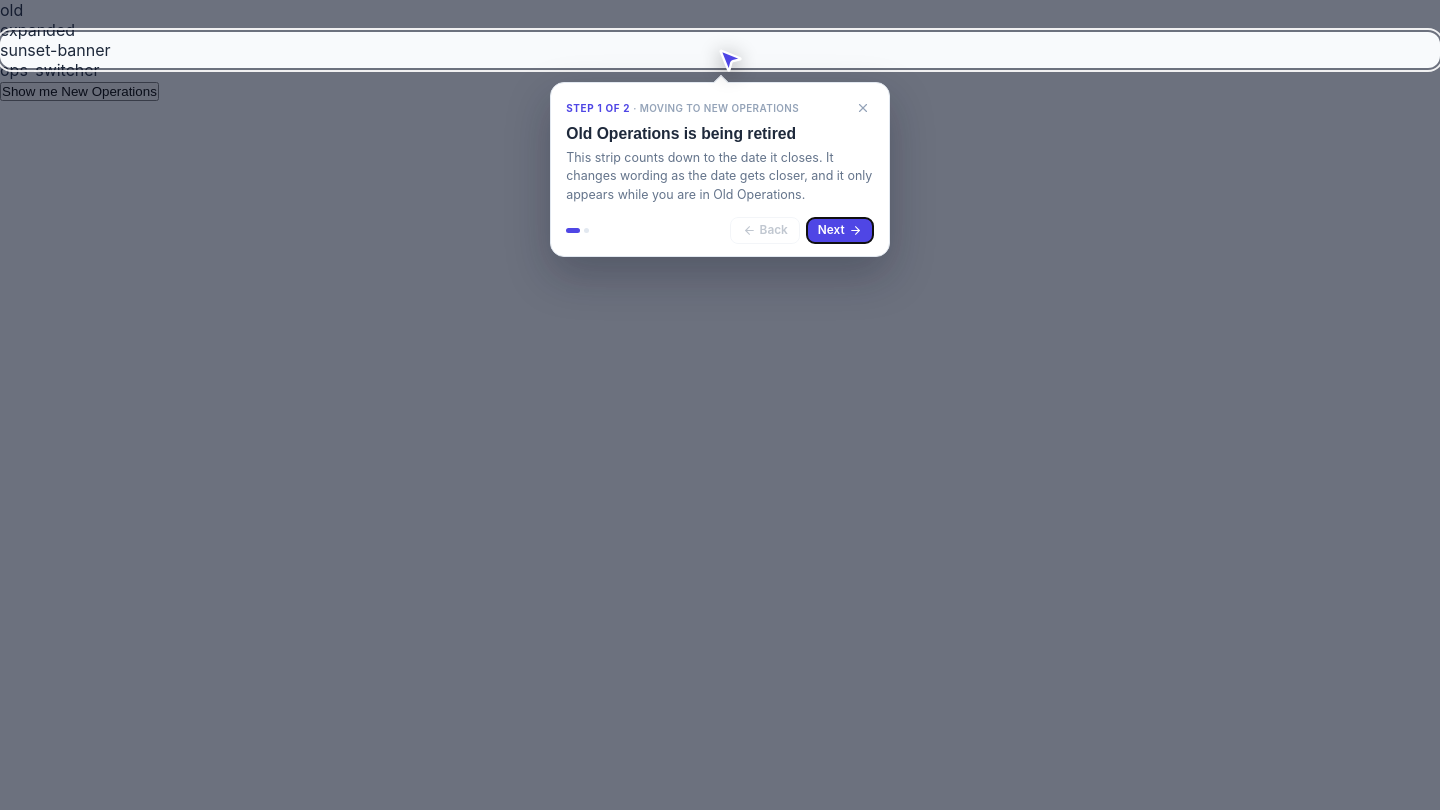
Test: TourProvider: sunset tour anchors that are not on the page › runs the banner and the switcher are present, counting only the present steps
Expected: the heading "Old Operations is being retired" is shown, x1=566 y1=125 x2=796 y2=142
Click the button "Next" at (840,230), box x1=806 y1=217 x2=874 y2=244
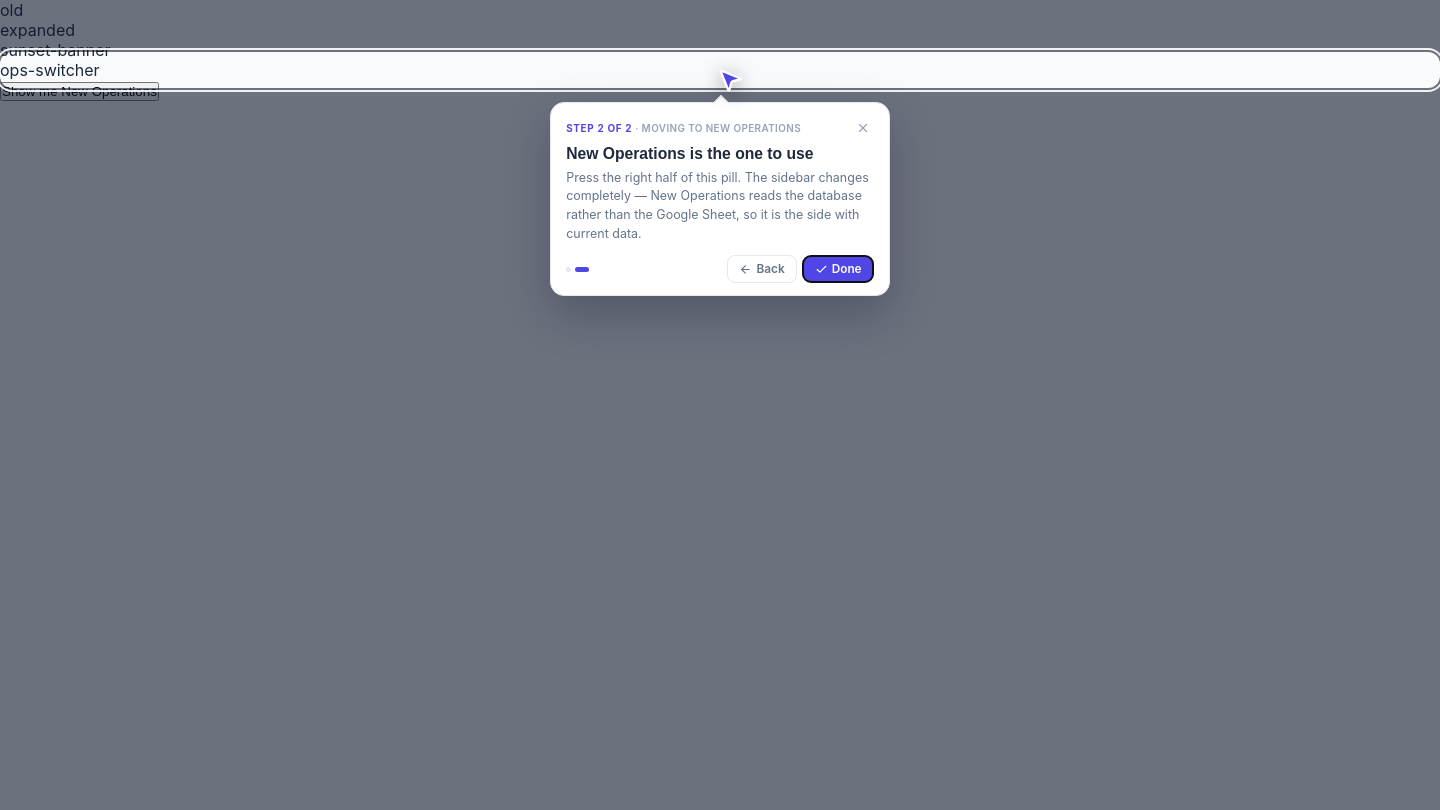
Expected: the heading "New Operations is the one to use" is shown, x1=566 y1=145 x2=814 y2=162
Expected: the button "Done" is shown
Click the button "Done" at (838,269), box x1=802 y1=256 x2=874 y2=283
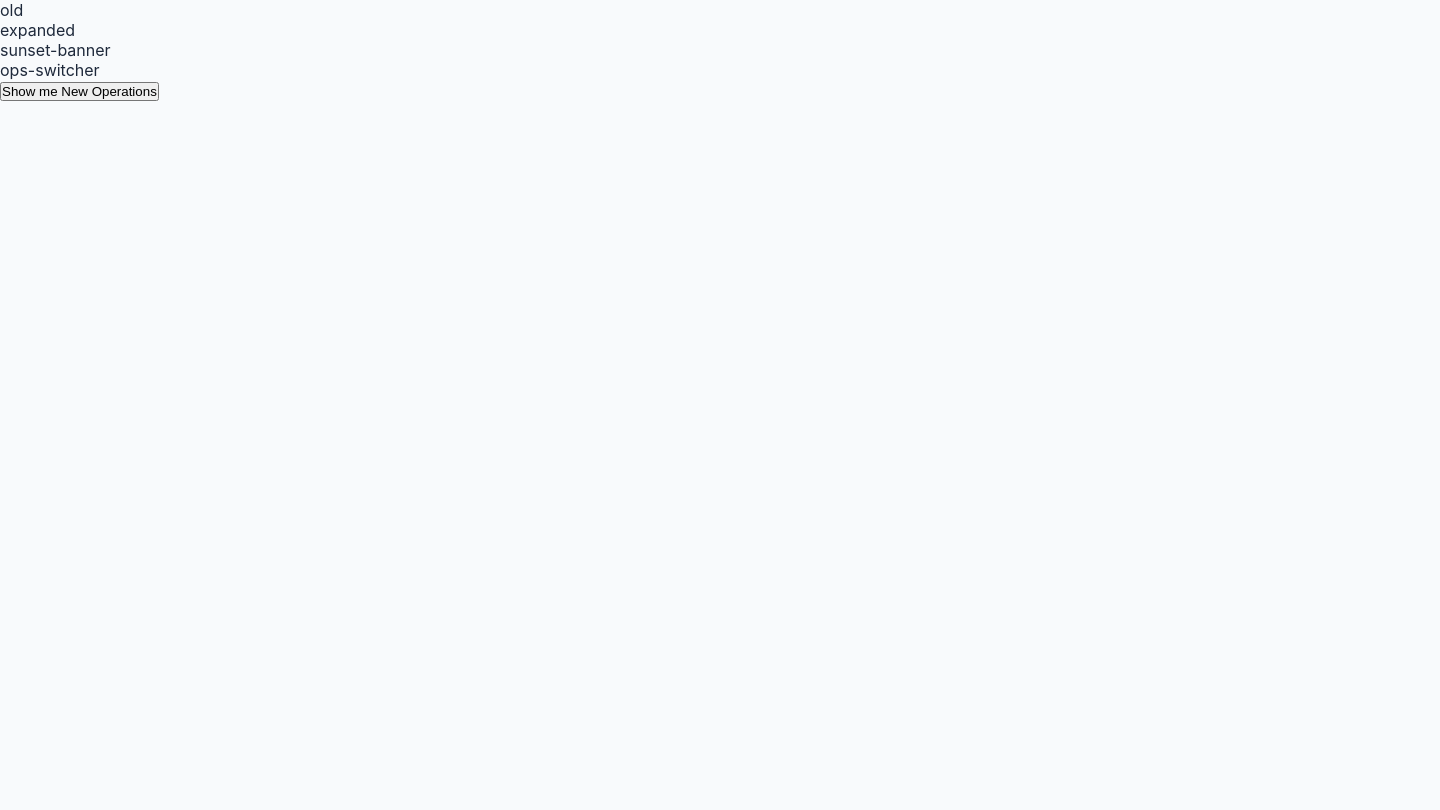
Expected: the dialog is gone
